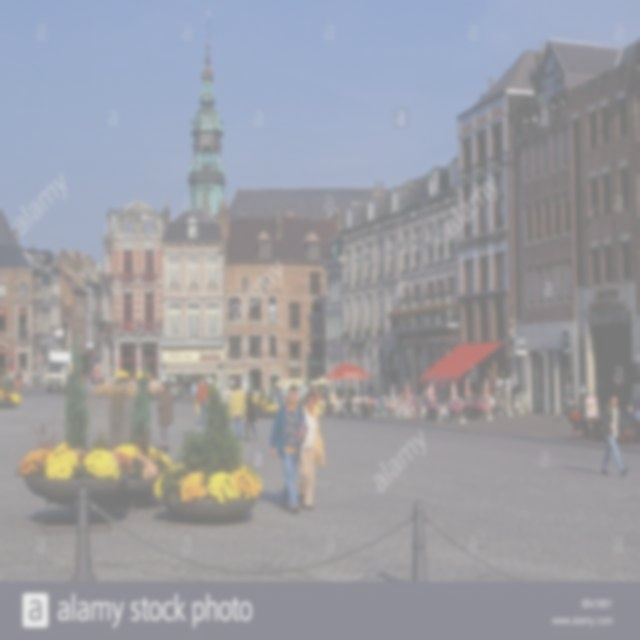pessoa: (268, 383, 309, 517), (296, 389, 325, 512), (598, 394, 630, 478), (155, 381, 175, 454), (228, 382, 248, 442), (304, 389, 324, 442), (240, 389, 258, 444), (556, 378, 574, 422), (195, 380, 209, 426), (81, 368, 102, 396), (624, 405, 640, 430), (6, 361, 22, 386), (421, 380, 437, 404), (316, 382, 332, 402), (568, 402, 582, 422), (576, 408, 592, 423), (328, 390, 336, 416), (277, 388, 288, 406), (190, 380, 198, 404), (632, 402, 640, 424), (272, 384, 280, 404), (367, 396, 374, 416), (122, 378, 134, 389), (177, 384, 184, 400), (397, 388, 407, 399), (382, 392, 388, 410), (380, 392, 388, 403)
